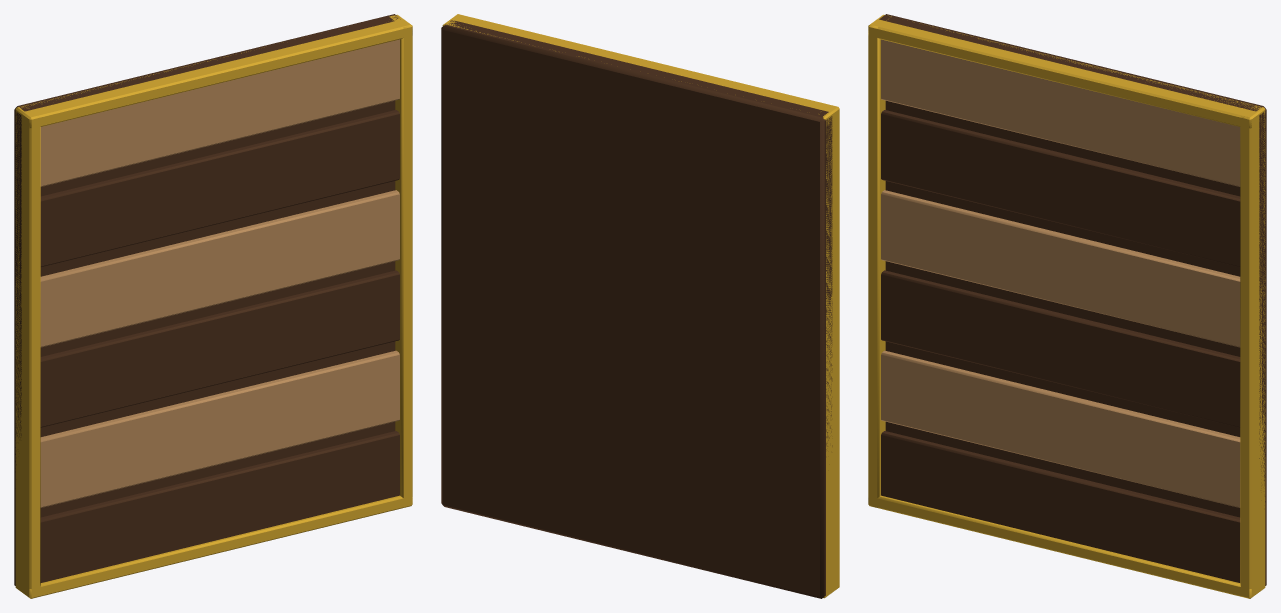
Rendered from wallpanel_wood_veneer.glb.
The picture shows the model from 3 angles, left to right: view 1: azimuth 30°, elevation 25°; view 2: azimuth 150°, elevation 25°; view 3: azimuth 330°, elevation 25°; orthographic projection.
Visible parts, largest first — view 1: wallpanel_wood_veneer; view 2: wallpanel_wood_veneer; view 3: wallpanel_wood_veneer.
Boxes of the visible parts, box(x1,y1,x2,y2) form: wallpanel_wood_veneer: box(14, 14, 412, 598); wallpanel_wood_veneer: box(441, 14, 839, 598); wallpanel_wood_veneer: box(868, 14, 1266, 598).
Size of the model in its own units: 1 by 1.2 by 0.08.
